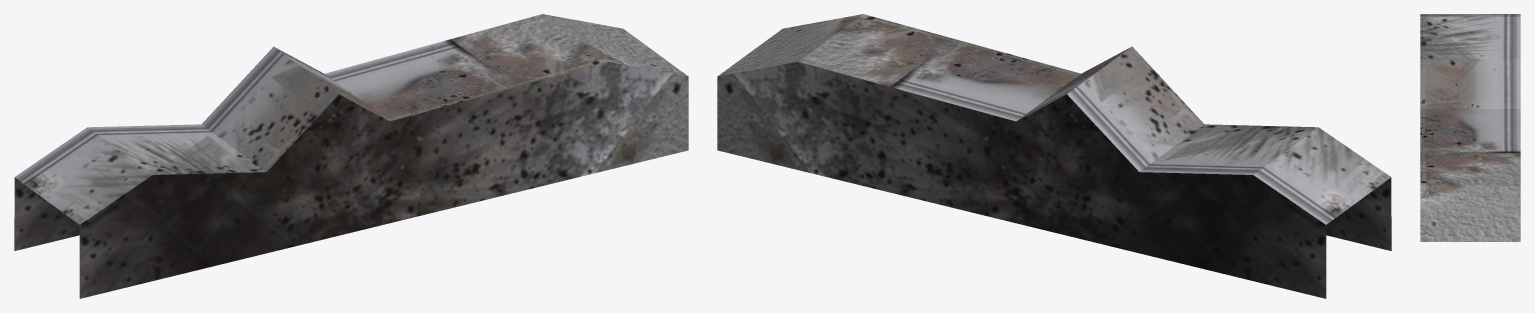
The model's file is bruch_kl2_2.obj.
The picture shows the model from 3 angles, left to right: view 1: azimuth 30°, elevation 25°; view 2: azimuth 150°, elevation 25°; view 3: azimuth 270°, elevation 25°; orthographic projection. The views are drawn at different scales.
Visible parts, largest first — view 1: polySurface138 polySurface175 polySurface177 polySurface184 poly; view 2: polySurface138 polySurface175 polySurface177 polySurface184 poly; view 3: polySurface138 polySurface175 polySurface177 polySurface184 poly.
Part boxes in pixels (<box>): polySurface138 polySurface175 polySurface177 polySurface184 poly: <box>14,14,688,298</box>; polySurface138 polySurface175 polySurface177 polySurface184 poly: <box>717,14,1391,298</box>; polySurface138 polySurface175 polySurface177 polySurface184 poly: <box>1420,14,1520,241</box>.
Size of the model in its own units: 0.9935 by 0.2207 by 0.1845.
Materials: 1 (1 with a texture image).
